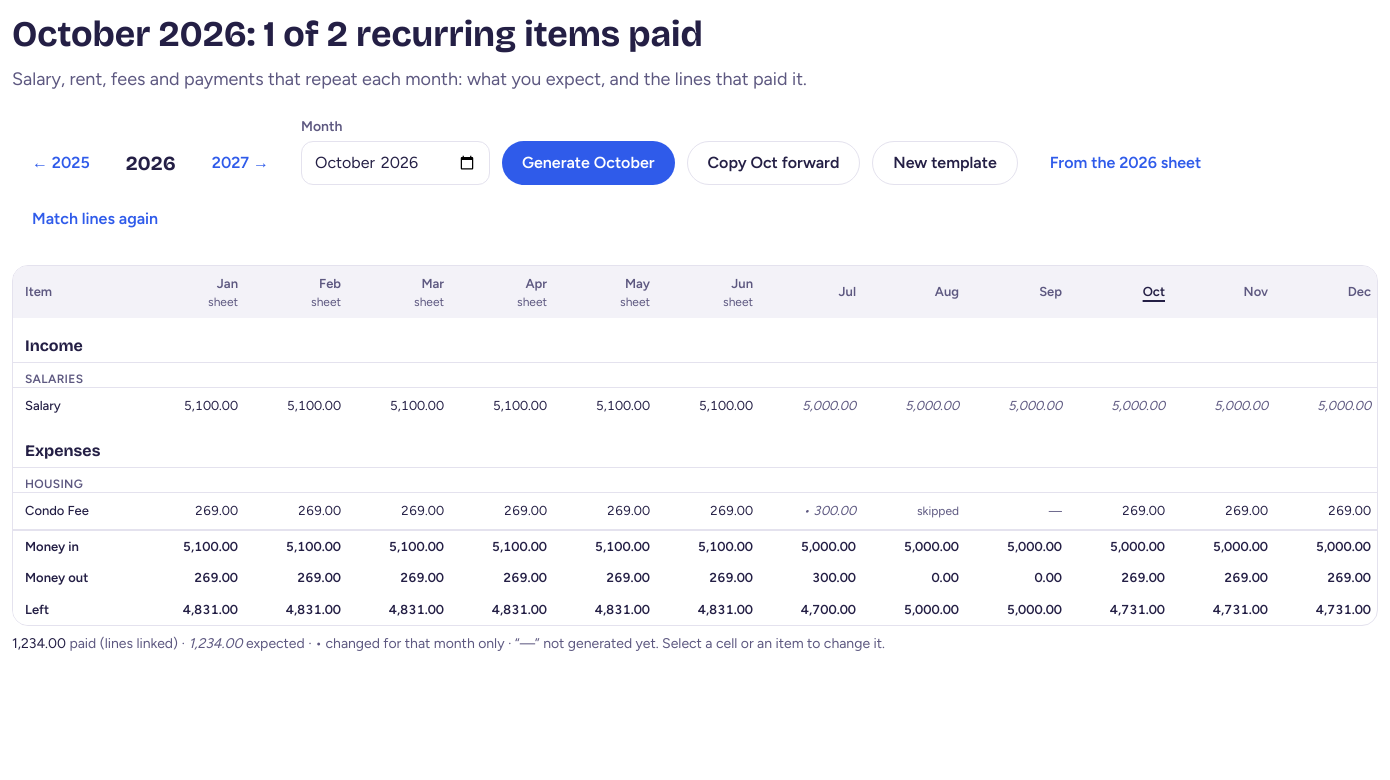
it: Recurring page › moves between years and reports errors
Expected: the table is shown, [13,266,1377,625]
Click the button "2027 →" at [240, 163], box [192,141,289,185]
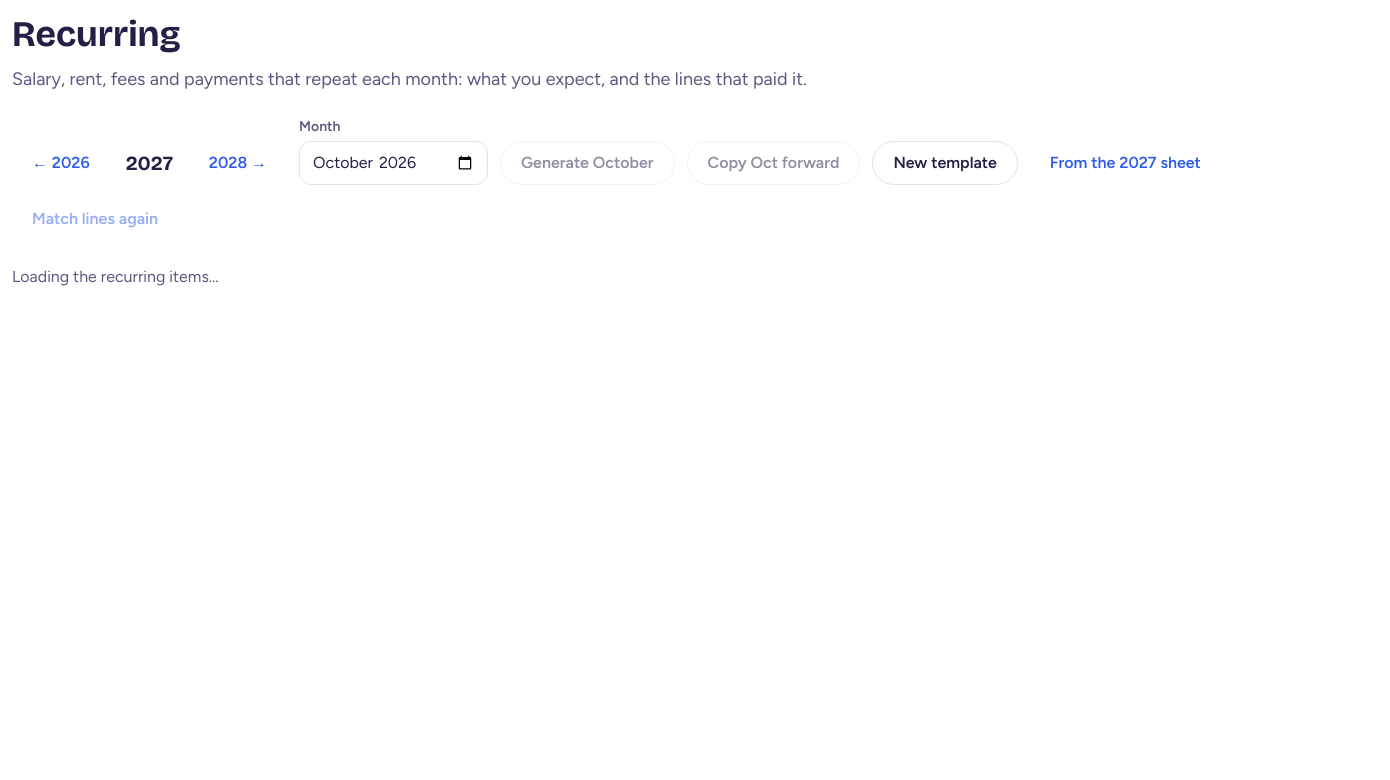
Click the button "← 2026" at [61, 163], box [12,141,110,185]
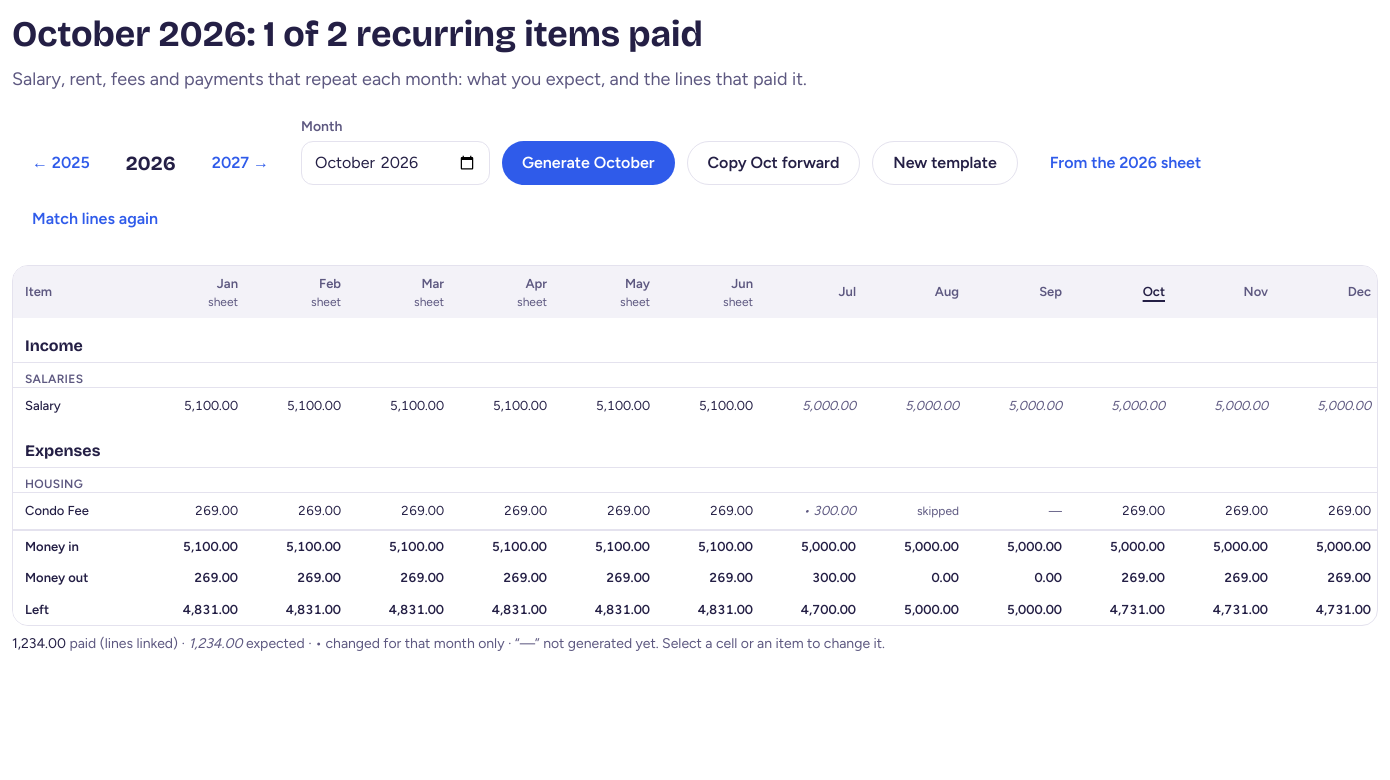
Click the button "Match lines again" at [95, 219], box [12,197,178,241]
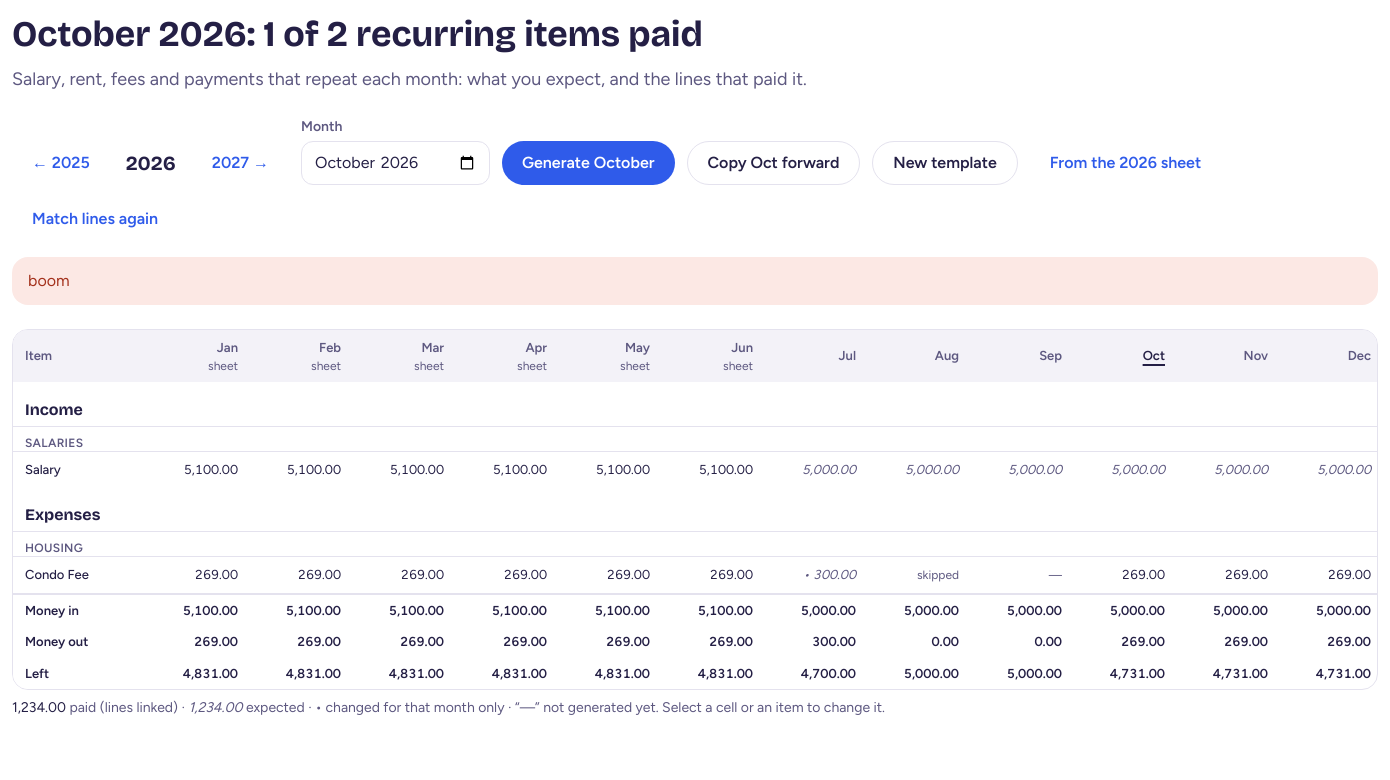
Expected: the text "boom" is shown, [12,257,1378,305]
